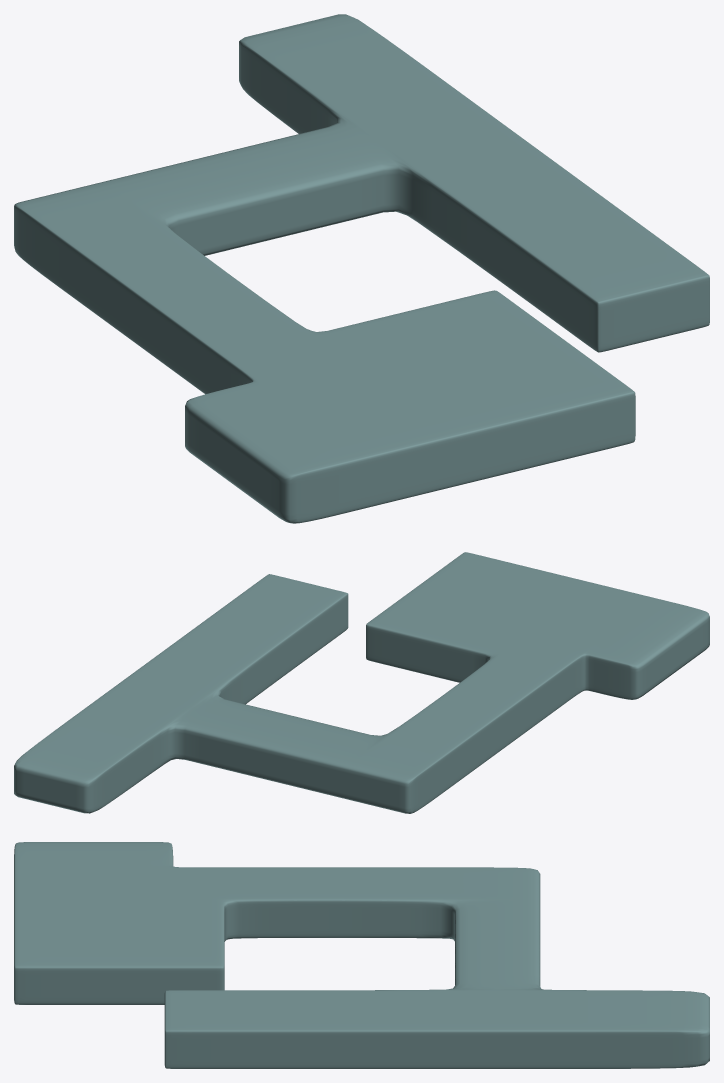
The model's file is Board.fbx.
The picture shows the model from 3 angles, top to bottom: view 1: azimuth 30°, elevation 25°; view 2: azimuth 150°, elevation 25°; view 3: azimuth 270°, elevation 25°; orthographic projection. The views are drawn at different scales.
Parts seen in each view (by area): view 1: pCube1; view 2: pCube1; view 3: pCube1.
Part boxes in pixels (<box>): pCube1: <box>14,14,709,523</box>; pCube1: <box>14,552,709,813</box>; pCube1: <box>14,842,709,1068</box>.
Size of what is drawn, in the model's own units: 6.47 by 0.6137 by 9.94.
